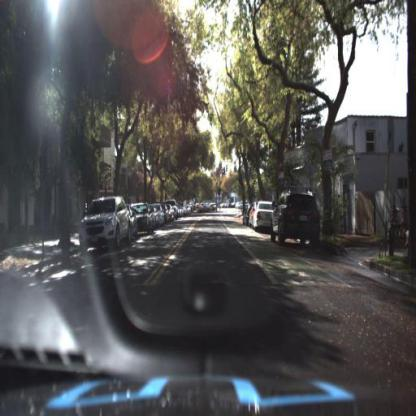car: (78, 194, 133, 254), (271, 188, 324, 245), (271, 191, 321, 246), (128, 204, 156, 238), (252, 199, 275, 233), (253, 203, 275, 229)
